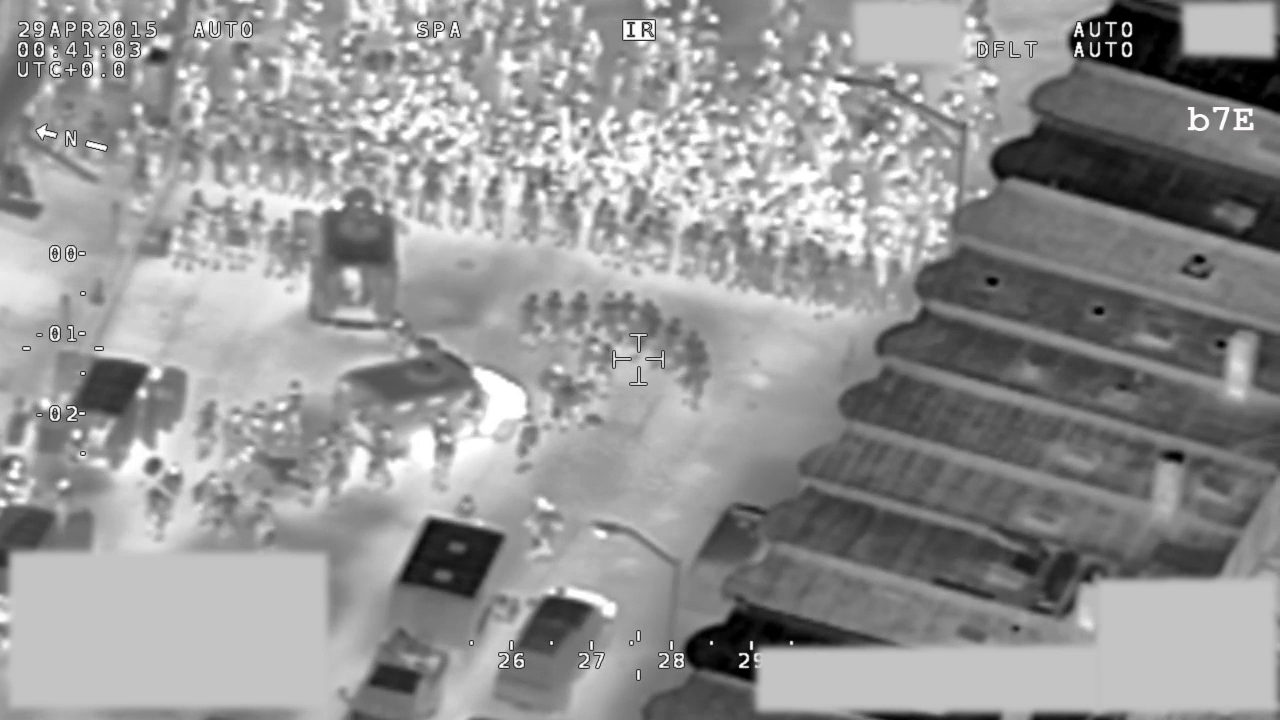vehicle: (328, 329, 537, 473), (378, 516, 526, 650), (487, 584, 638, 715), (46, 345, 189, 475), (308, 180, 404, 332)
